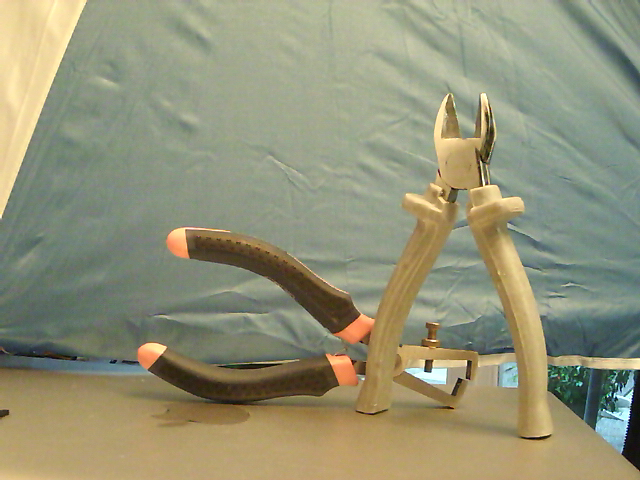pliers: (346, 90, 559, 442)
